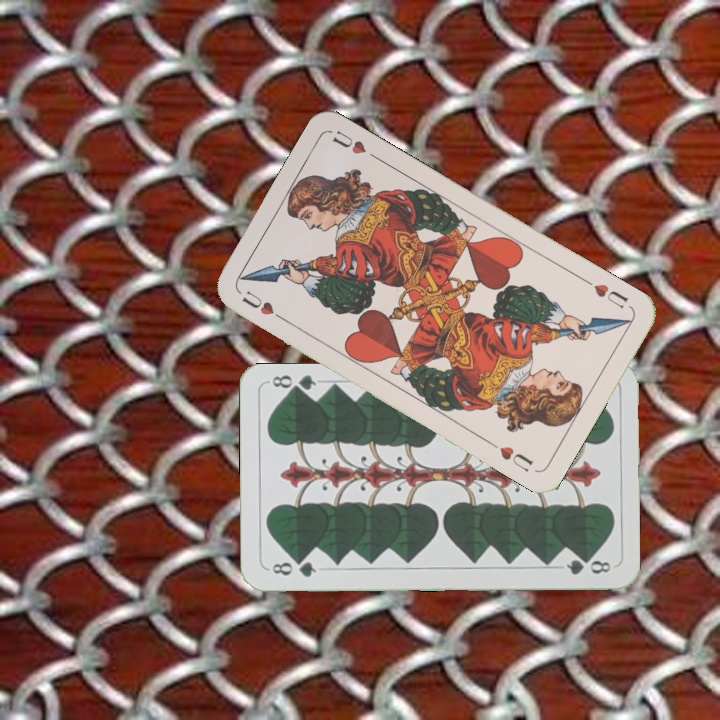G8: (268, 556, 319, 579)
HU: (237, 286, 289, 325), (580, 275, 631, 312)
